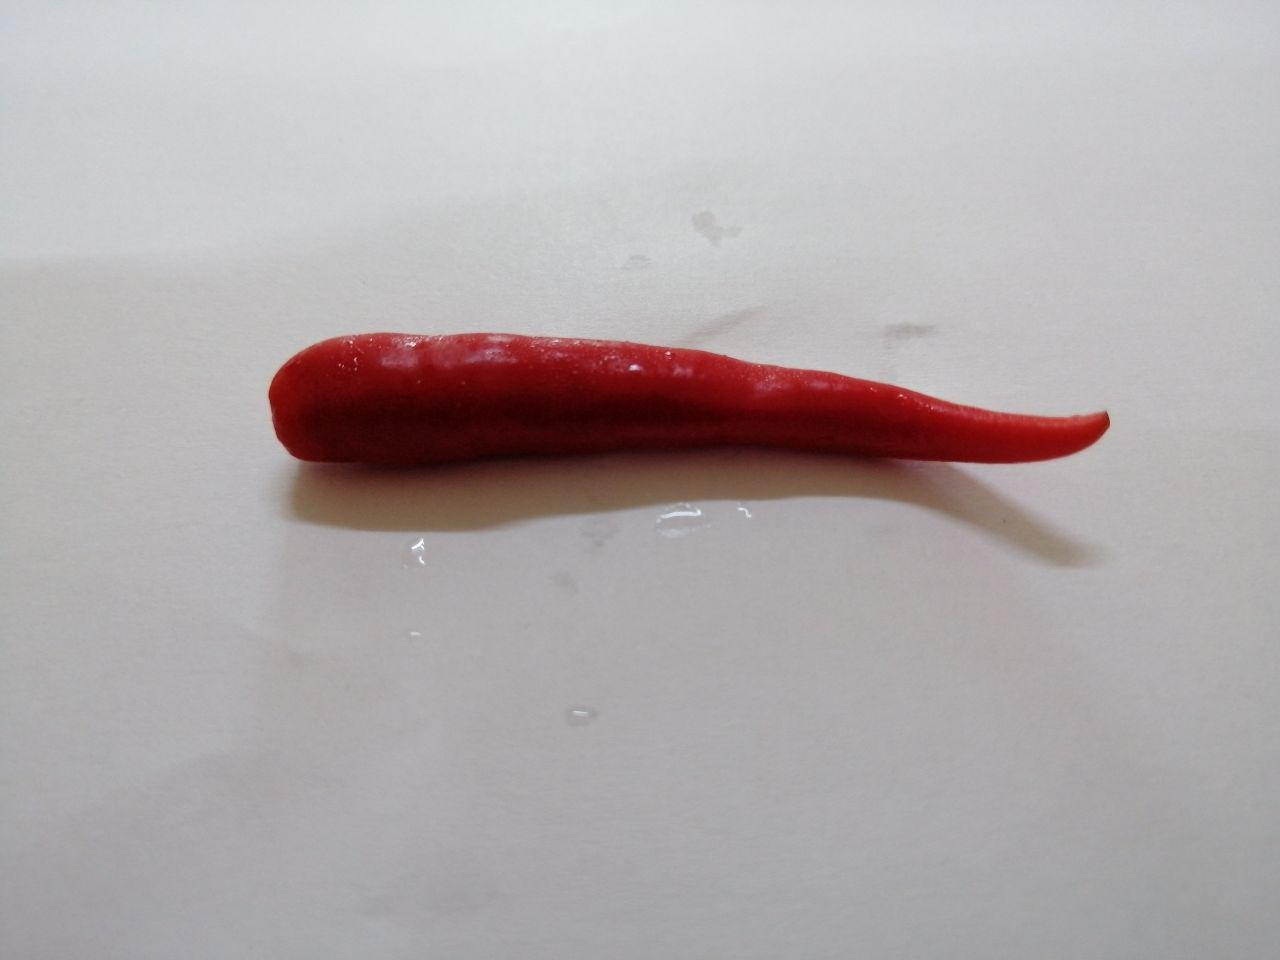lada merah: (252, 302, 1127, 527)
